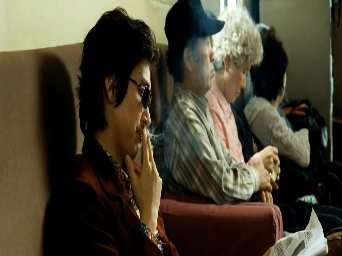smoke: (144, 132, 157, 141)
